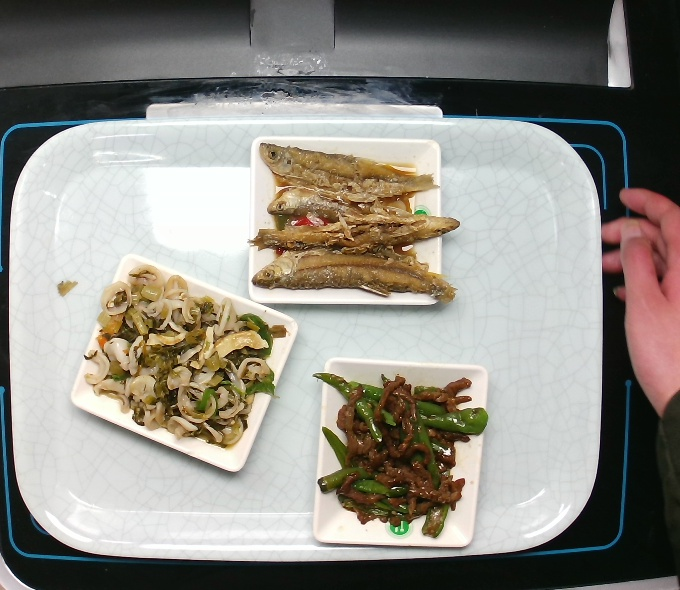wcq-QingJiaoNiuRou: (315, 369, 498, 540)
wcq-XiaoXiYu: (239, 122, 464, 320)
wcq-XueCaiYouYu: (77, 261, 288, 451)
